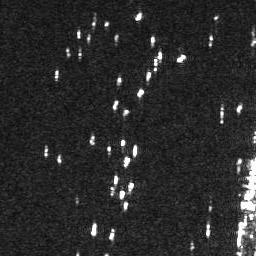ship: (235, 220, 243, 248), (90, 222, 99, 238), (176, 53, 187, 64), (219, 107, 226, 124), (107, 228, 116, 241), (130, 143, 138, 157), (234, 102, 244, 113), (122, 156, 131, 168), (134, 11, 143, 22), (127, 181, 135, 193), (136, 87, 144, 99), (145, 71, 153, 83), (205, 222, 211, 237), (89, 135, 96, 147), (122, 107, 130, 117), (76, 28, 82, 40), (157, 50, 163, 62), (113, 99, 119, 111), (112, 176, 119, 186), (150, 35, 156, 46), (123, 201, 129, 211), (153, 57, 159, 67), (120, 138, 126, 148), (54, 69, 59, 80), (119, 190, 125, 199), (116, 76, 122, 85), (57, 154, 62, 164)
